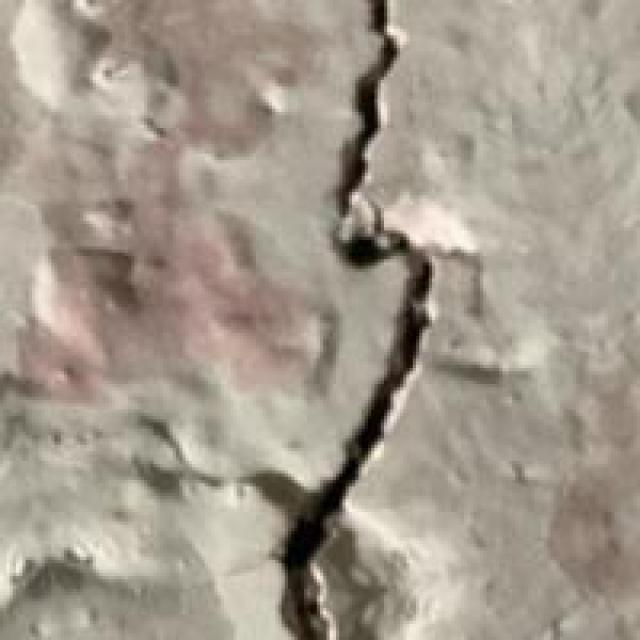Crack: (230, 3, 468, 637)
